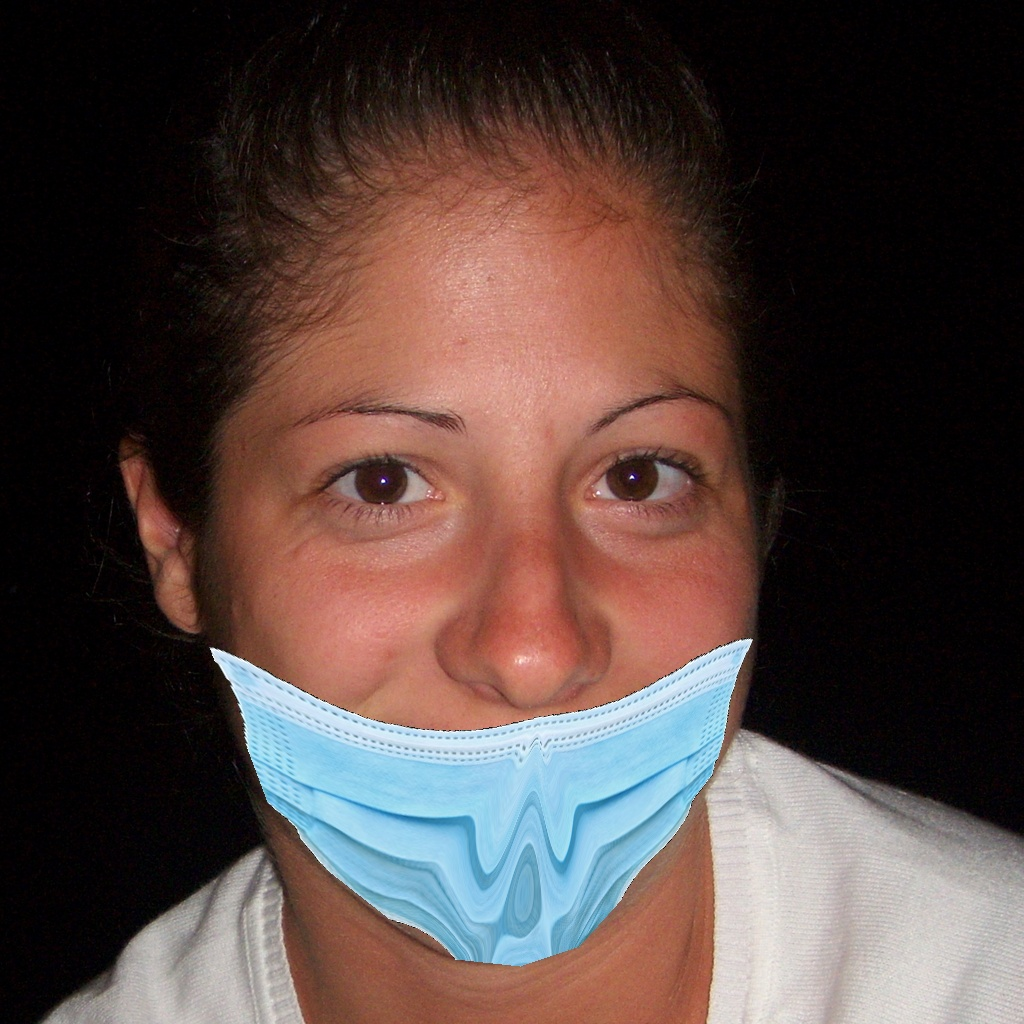mask_weared_incorrect: (232, 392, 750, 974)
